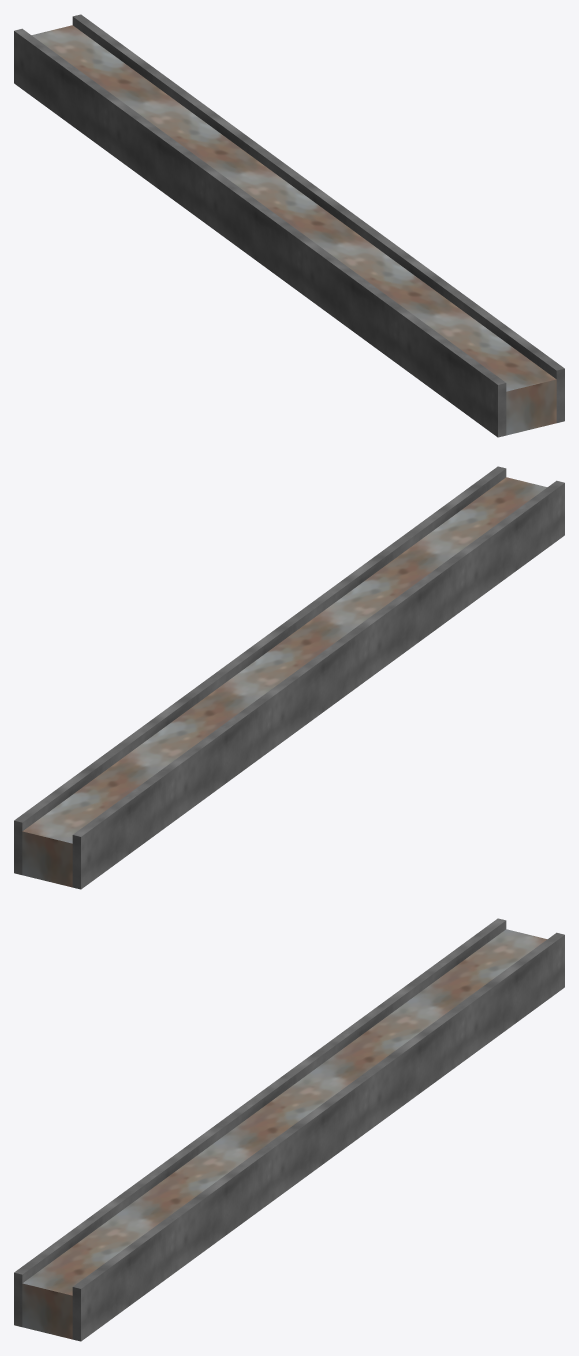
Rendered from Gate Floor.fbx.
3 views of the same model, one above another, from view 1: azimuth 30°, elevation 25°; view 2: azimuth 150°, elevation 25°; view 3: azimuth 330°, elevation 25° (orthographic).
Parts seen in each view (by area): view 1: dirty carbon grey Mesh (1), bare metal 2 Mesh (1), dirty carbon grey 2 Mesh (1); view 2: dirty carbon grey Mesh (1), bare metal 2 Mesh (1), dirty carbon grey 2 Mesh (1); view 3: dirty carbon grey 2 Mesh (1), bare metal 2 Mesh (1), dirty carbon grey Mesh (1).
Boxes of the visible parts, x1=… form: dirty carbon grey Mesh (1): x1=14, y1=28, x2=506, y2=437; bare metal 2 Mesh (1): x1=31, y1=25, x2=556, y2=435; dirty carbon grey 2 Mesh (1): x1=72, y1=14, x2=564, y2=422; dirty carbon grey Mesh (1): x1=72, y1=480, x2=564, y2=889; bare metal 2 Mesh (1): x1=22, y1=477, x2=547, y2=887; dirty carbon grey 2 Mesh (1): x1=14, y1=466, x2=506, y2=874; dirty carbon grey 2 Mesh (1): x1=72, y1=932, x2=564, y2=1341; bare metal 2 Mesh (1): x1=22, y1=929, x2=547, y2=1339; dirty carbon grey Mesh (1): x1=14, y1=918, x2=506, y2=1326.
Bounding box in the file's own units: 0.4 × 0.3 × 5.
